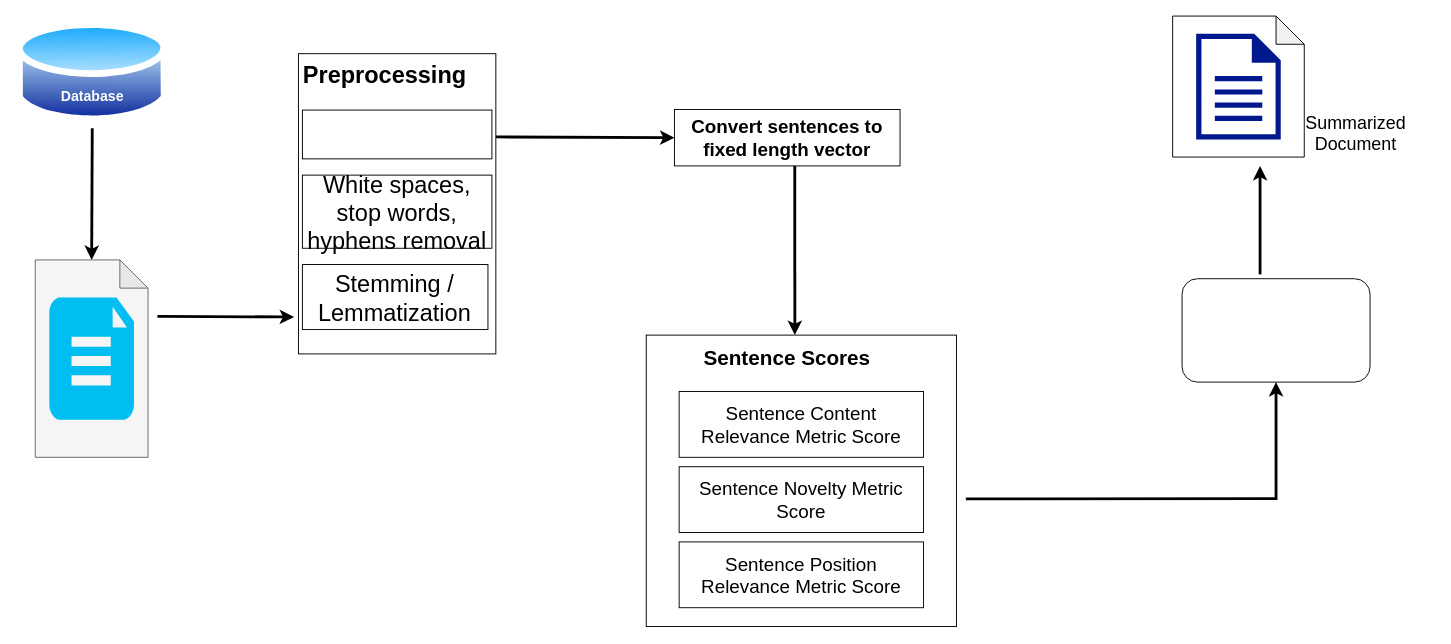
The diagram is 1451 pixels wide and 644 high, and some of its shapes have lost their labels. The shapes that lost their labels are listed below. From the top down, each one's box as (x1, y1, x2, y2) in pixels, then its label:
(301, 109, 492, 159): Tokenization
(1181, 278, 1370, 382): Sentence Ranking & Selection
(49, 297, 133, 419): Document
